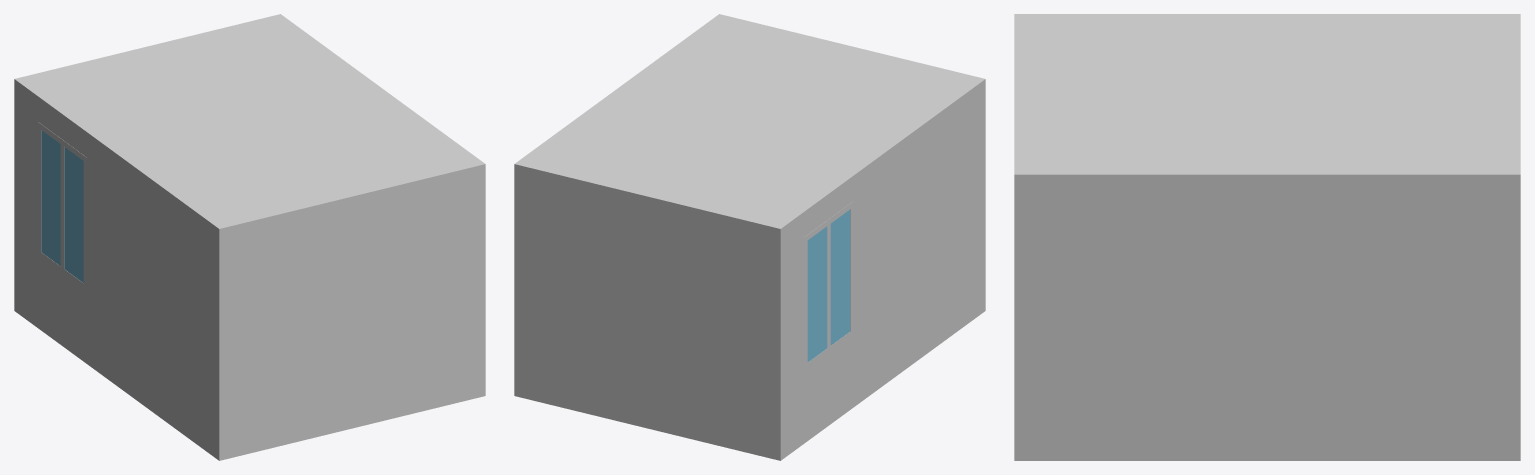
File: LivingRoomWalls_low.fbx
3 renders of one model, left to right at view 1: azimuth 30°, elevation 25°; view 2: azimuth 150°, elevation 25°; view 3: azimuth 270°, elevation 25°, orthographic. The views are drawn at different scales.
Parts seen in each view (by area): view 1: SM_WallsFloor; view 2: SM_WallsFloor; view 3: SM_WallsFloor.
Boxes of the visible parts, box(x1,y1,x2,y2) form: SM_WallsFloor: box(14, 14, 485, 460); SM_WallsFloor: box(514, 14, 985, 460); SM_WallsFloor: box(1014, 14, 1520, 460).
Bounding box in the file's own units: 300 × 250 × 400.
